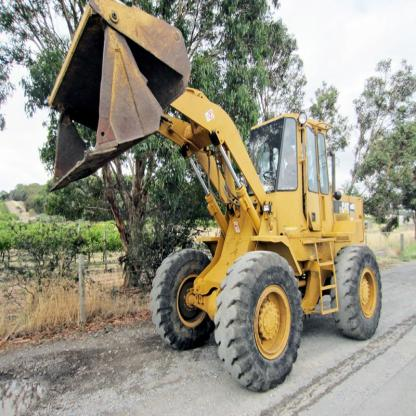bull_dozer/loader/grader: (46, 13, 389, 390)
